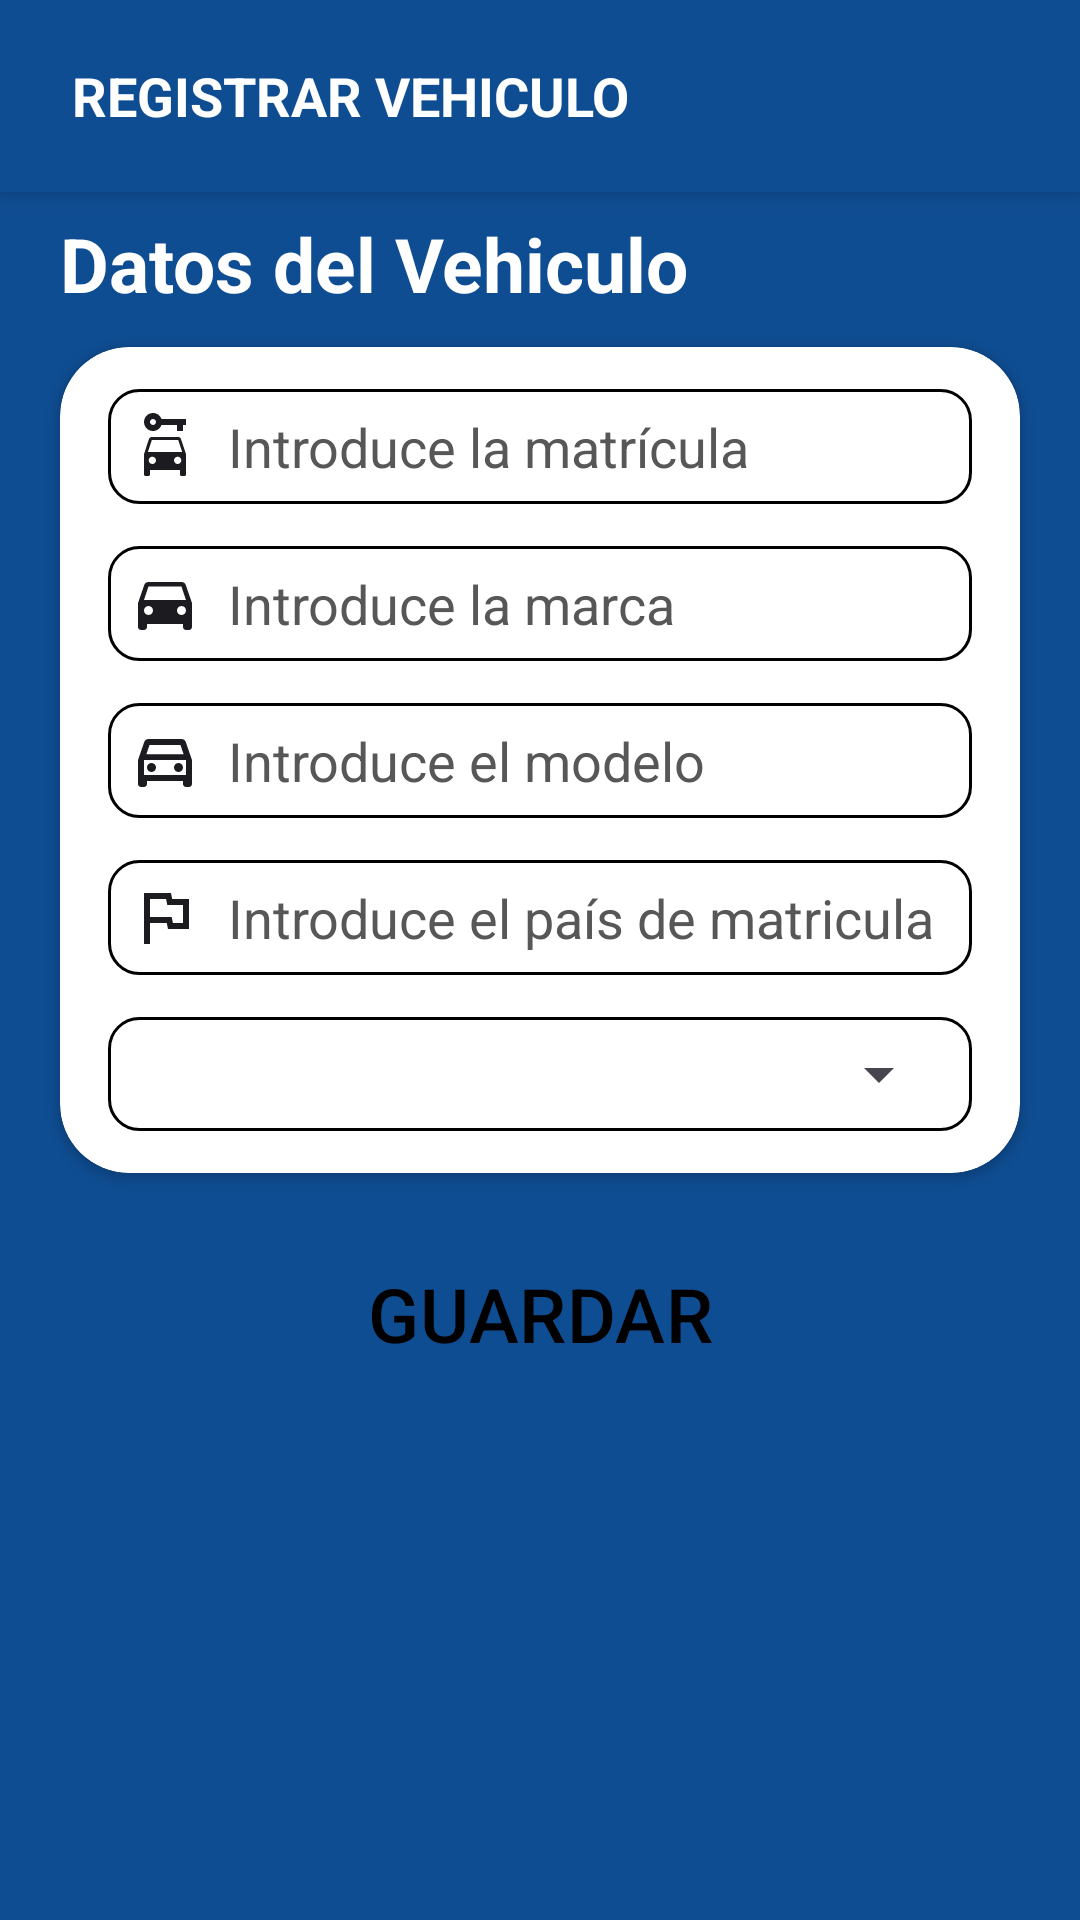

Point at icon controls on the screen. Image size 1080 × 1920, points as (x=x, y=y).
car marca: (x=165, y=606)
car modelo: (x=165, y=763)
country seguro: (x=166, y=918)
matricula: (x=165, y=444)
